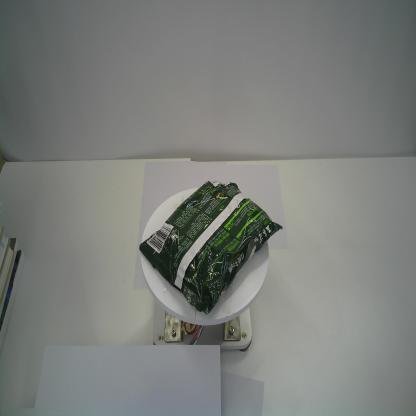Instant Noodles: (138, 177, 286, 317)
